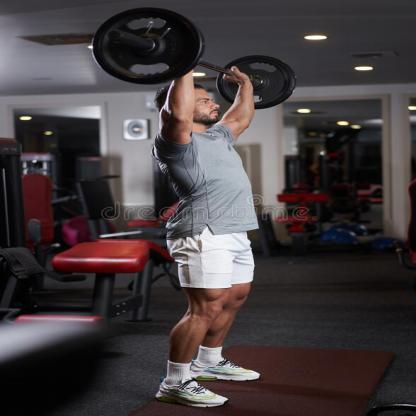Barbell: (86, 3, 214, 88)
